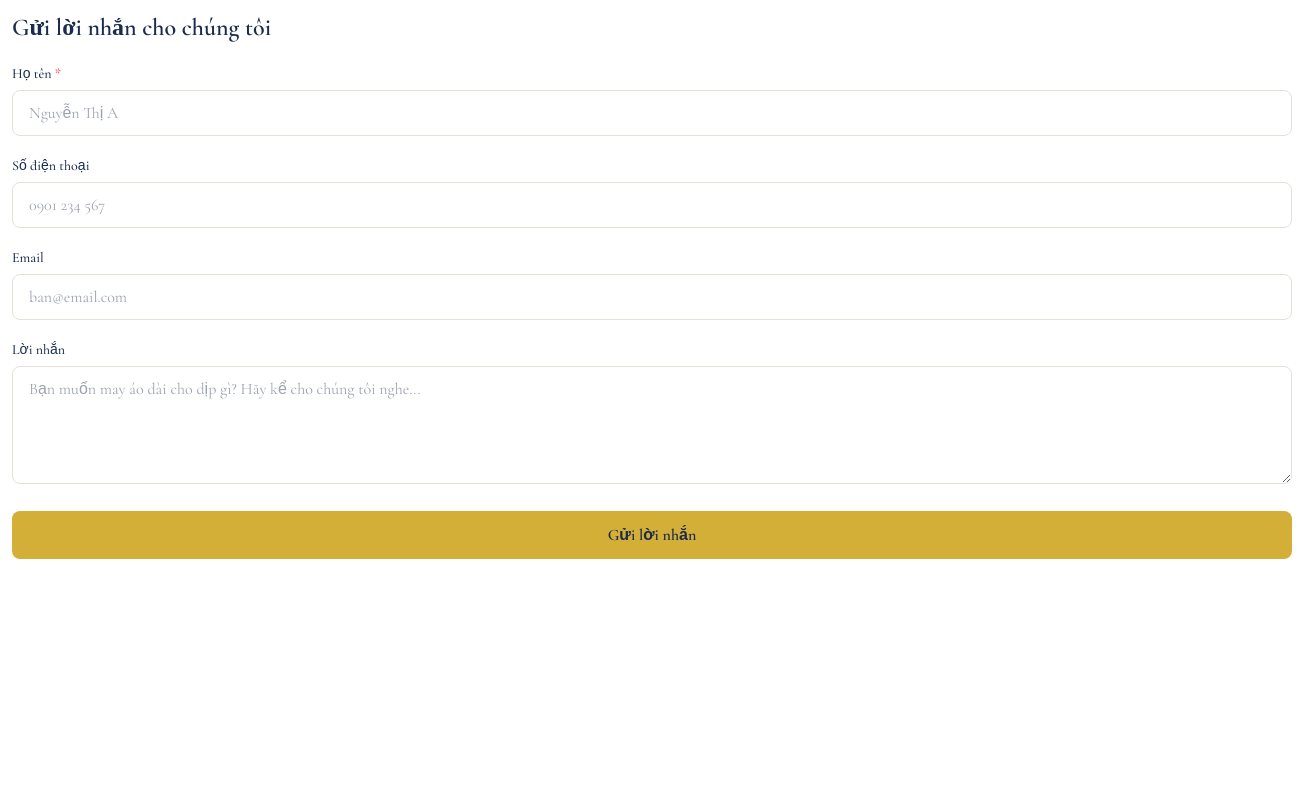
Test: ContactForm › shows 'Email không hợp lệ' for an invalid email
Type "Chị Mai" into the field labelled "Họ tên *" at (652, 113), box [12,90,1292,136]
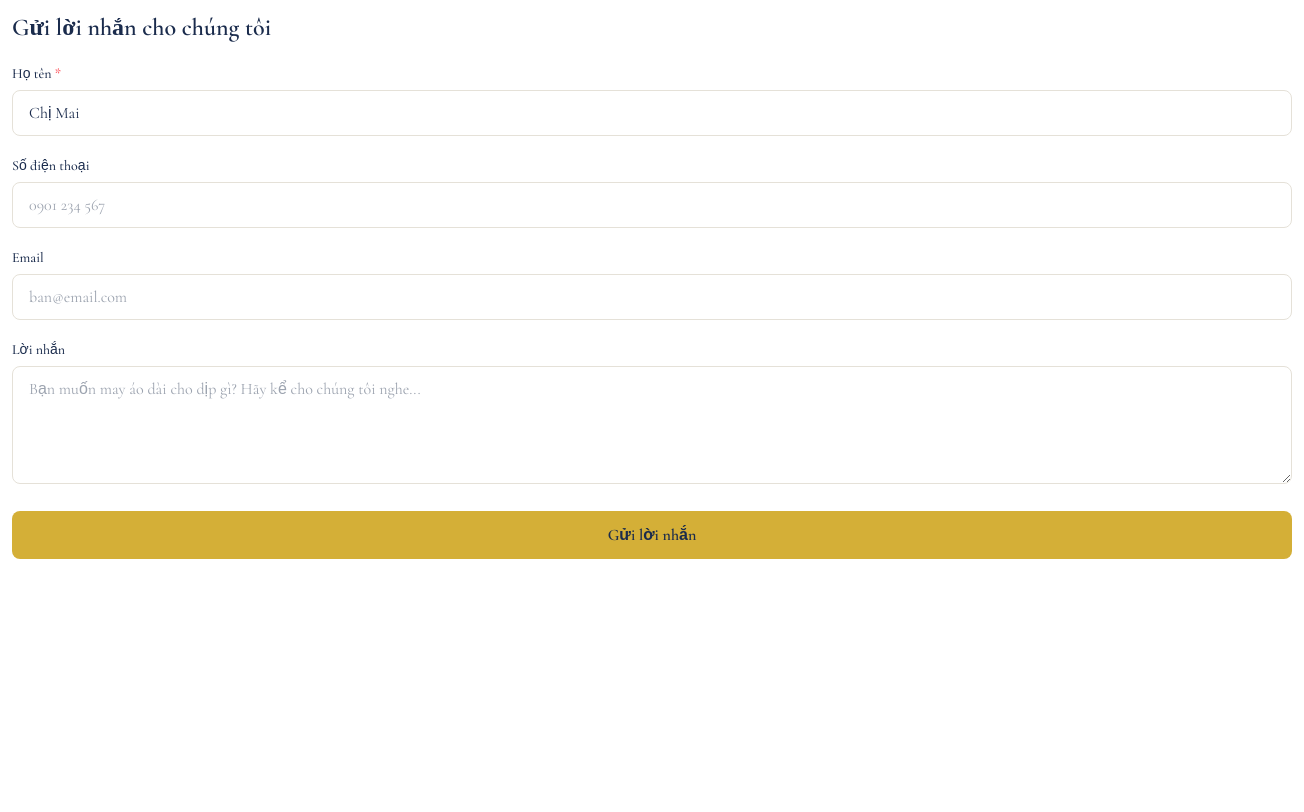
Type "not-an-email" into the field labelled "Email" at (652, 297), box [12,274,1292,320]
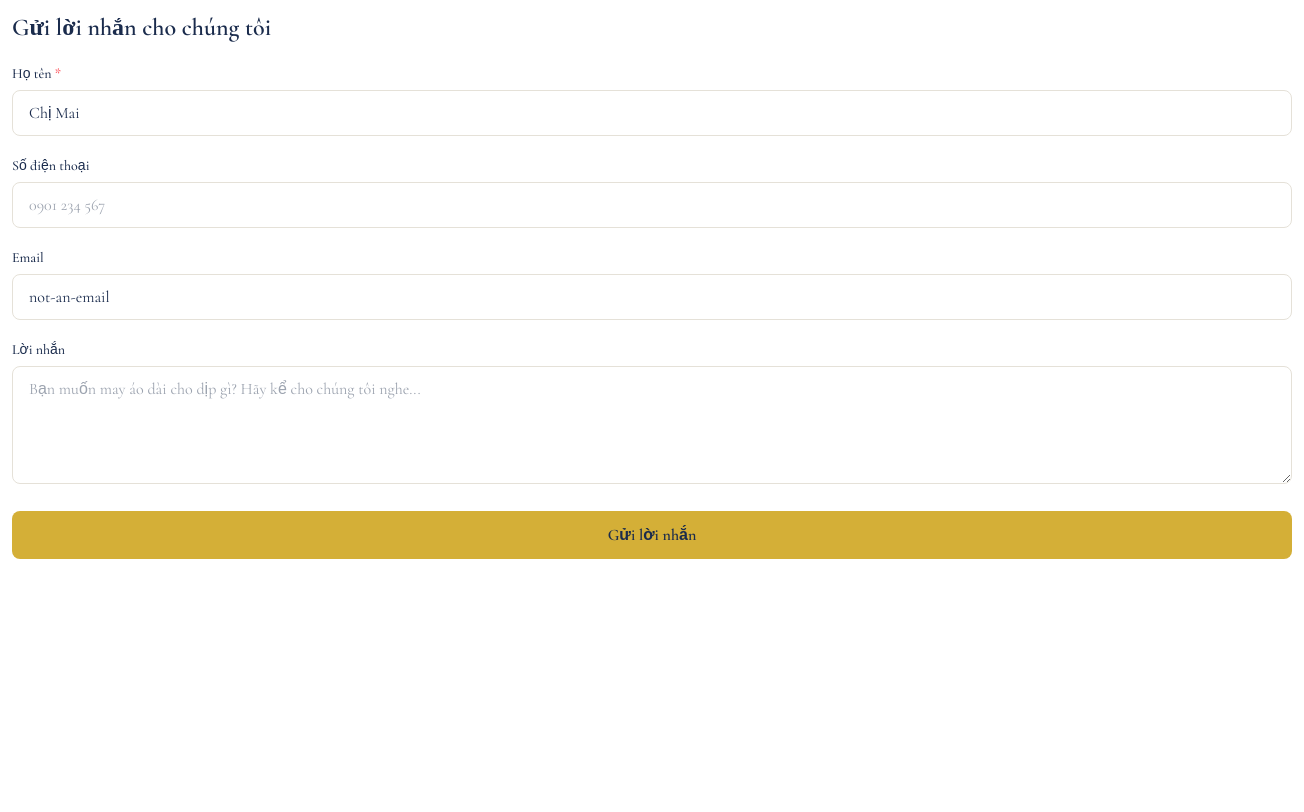
Click the button "Gửi lời nhắn" at (652, 535), box [12,511,1292,559]
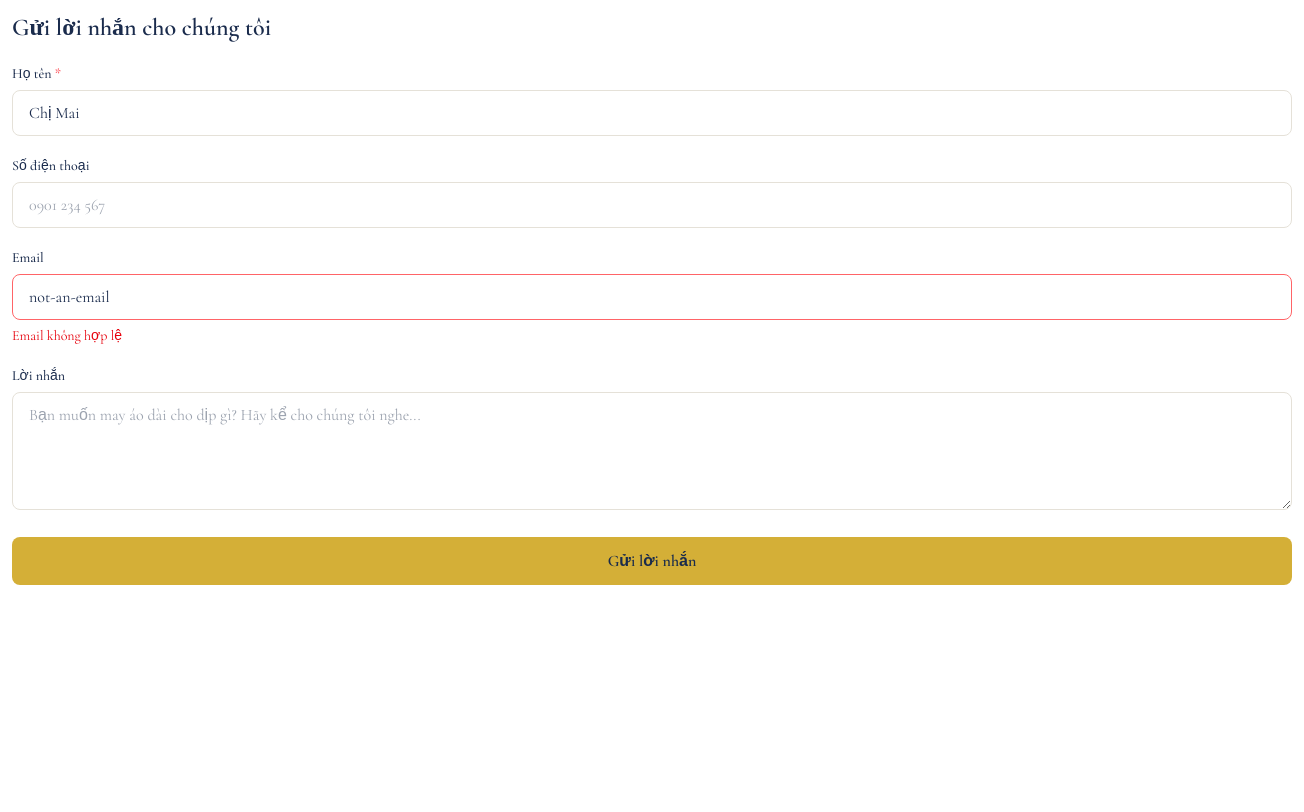
Expected: the text "Email không hợp lệ" is shown, [12,327,122,344]
